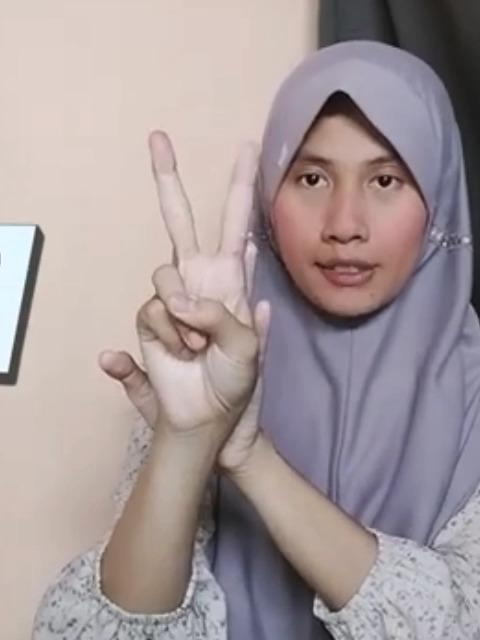V: (126, 125, 274, 432)
